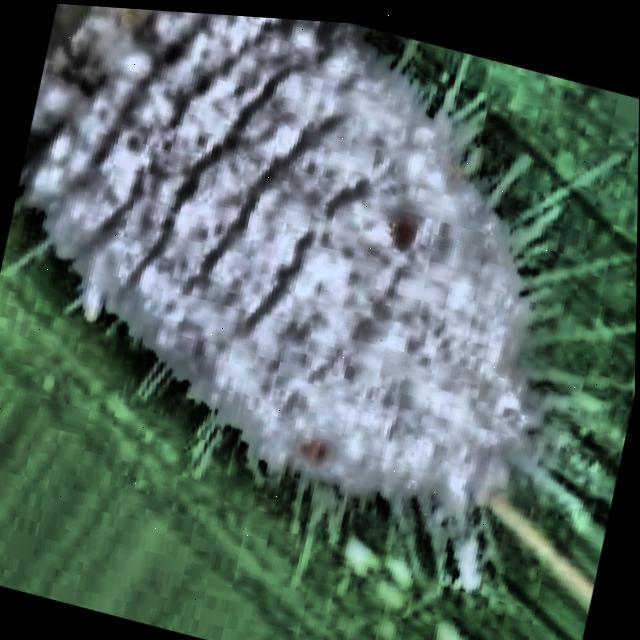Mealy-bug: (0, 0, 640, 616)
